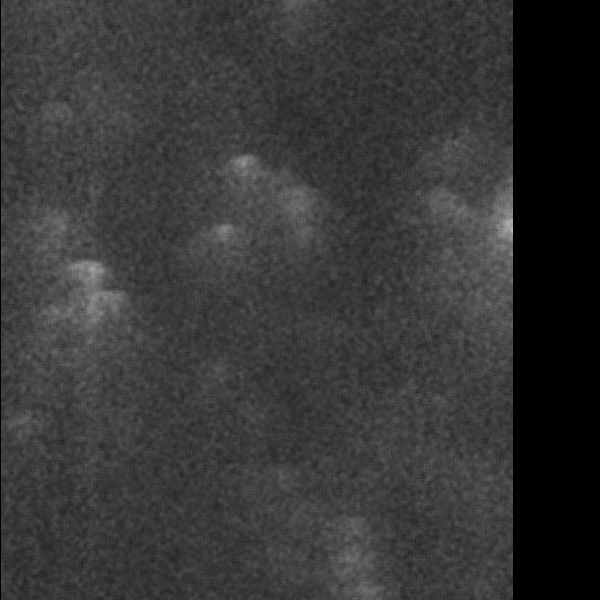spark: (339, 516, 407, 600), (325, 511, 375, 598), (277, 174, 317, 280), (222, 150, 263, 213), (205, 221, 240, 261), (43, 210, 77, 239)
